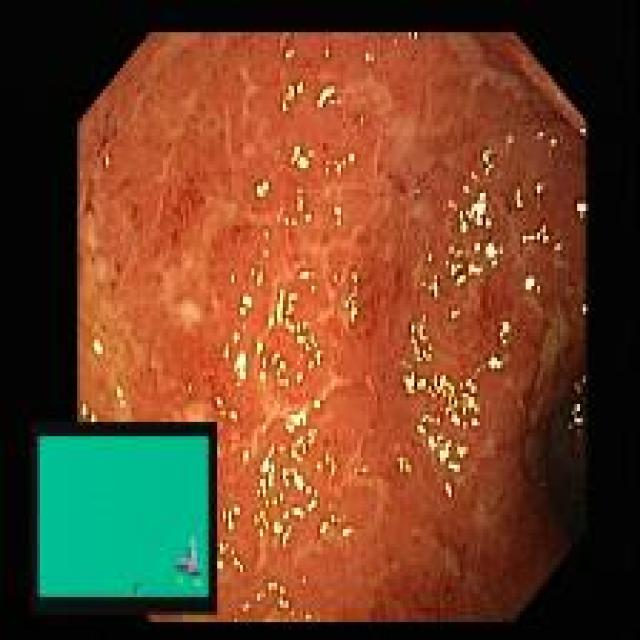ulcerative-colitis: (79, 33, 588, 621)
